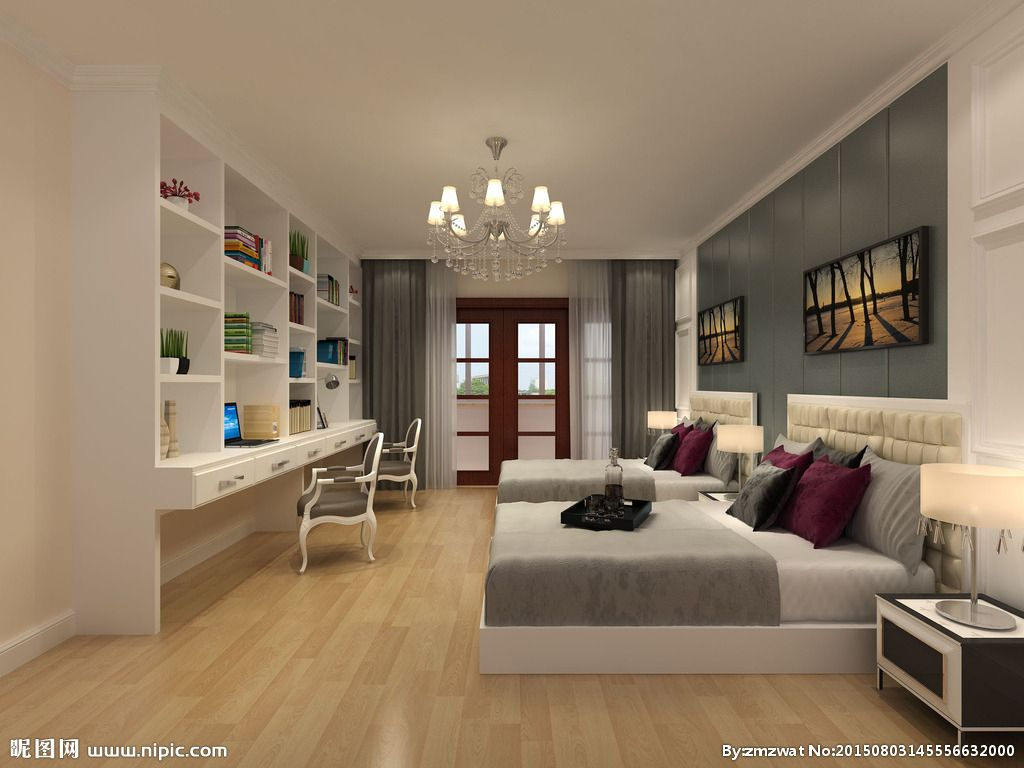床: (486, 486, 925, 696)
枕头: (738, 441, 943, 553), (656, 411, 718, 480)
灯: (428, 130, 574, 275), (932, 464, 1018, 626), (714, 419, 759, 499)
